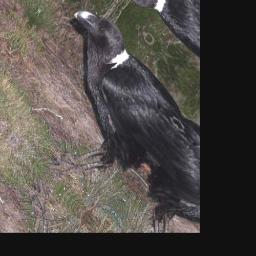Crow: (0, 0, 192, 228)
